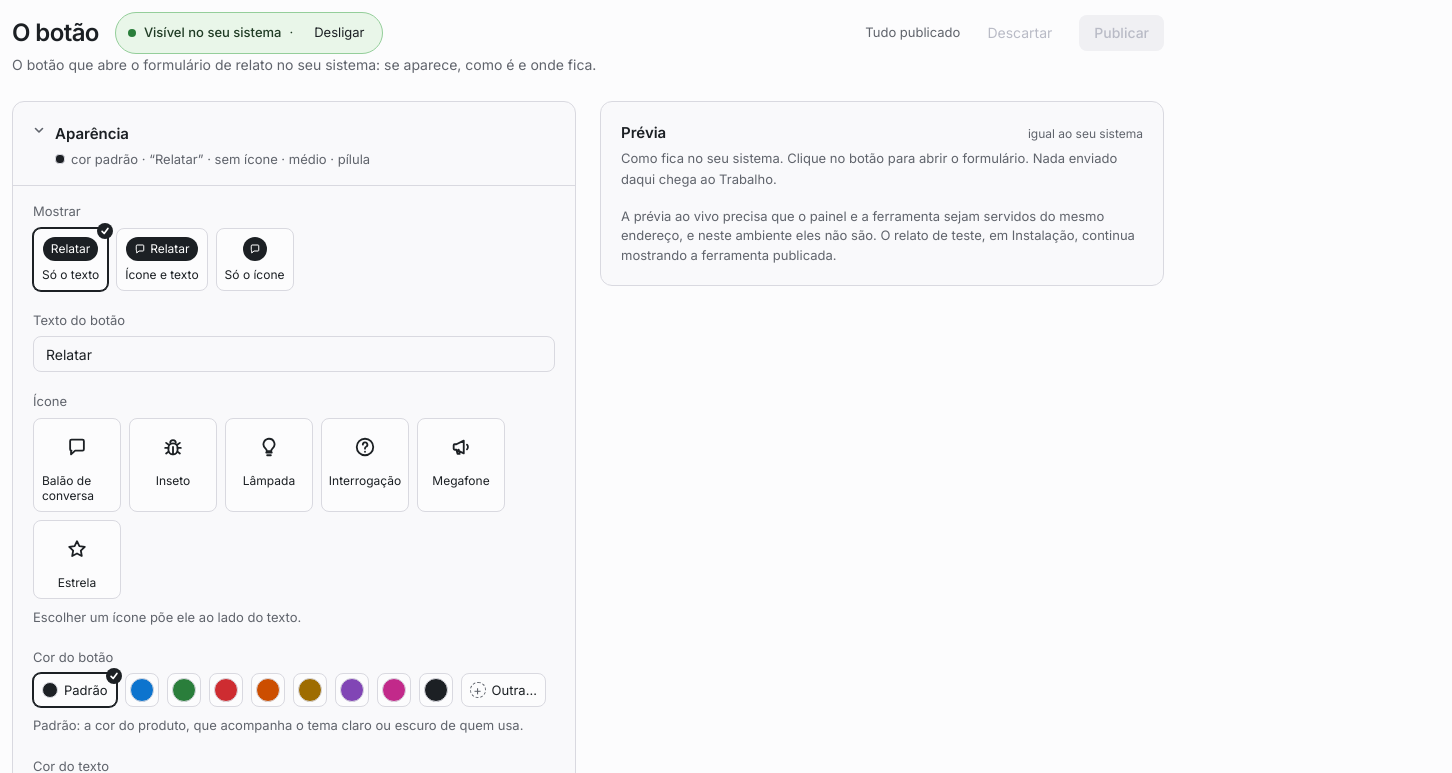
Scenario: WidgetSettingsScreen › a primeira mudanca liga o Publicar com a conta, e descartar desliga de novo
This screenshot has width=1452, height=773.
Replace the text in the field labelled "Texto do botão" with "Fale com a gente" at (294, 354), box [33, 336, 555, 372]
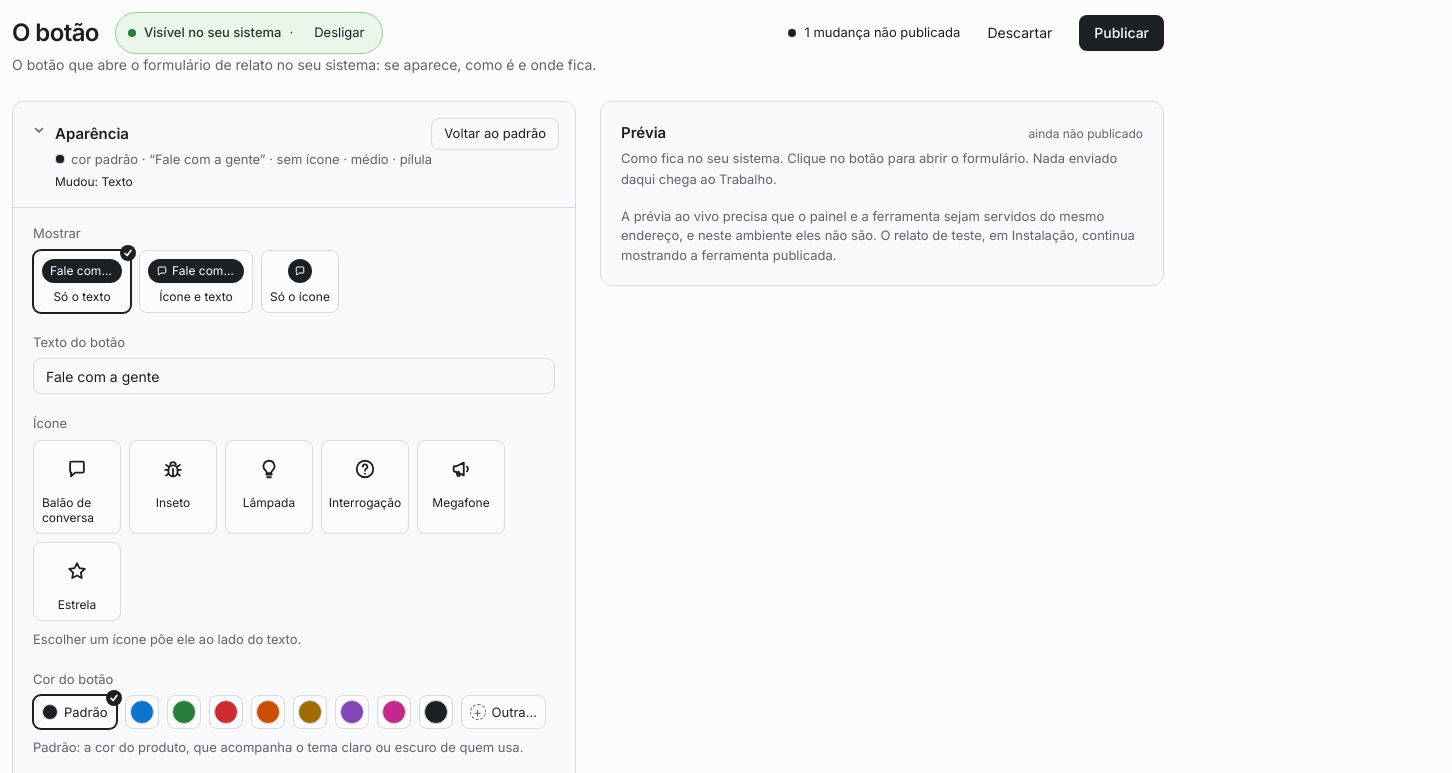
Expected: the text "1 mudança não publicada" is shown, [804, 23, 960, 43]
Click the button with aria-label "Desligar o botão no seu sistema" at (339, 33), box [301, 17, 378, 49]
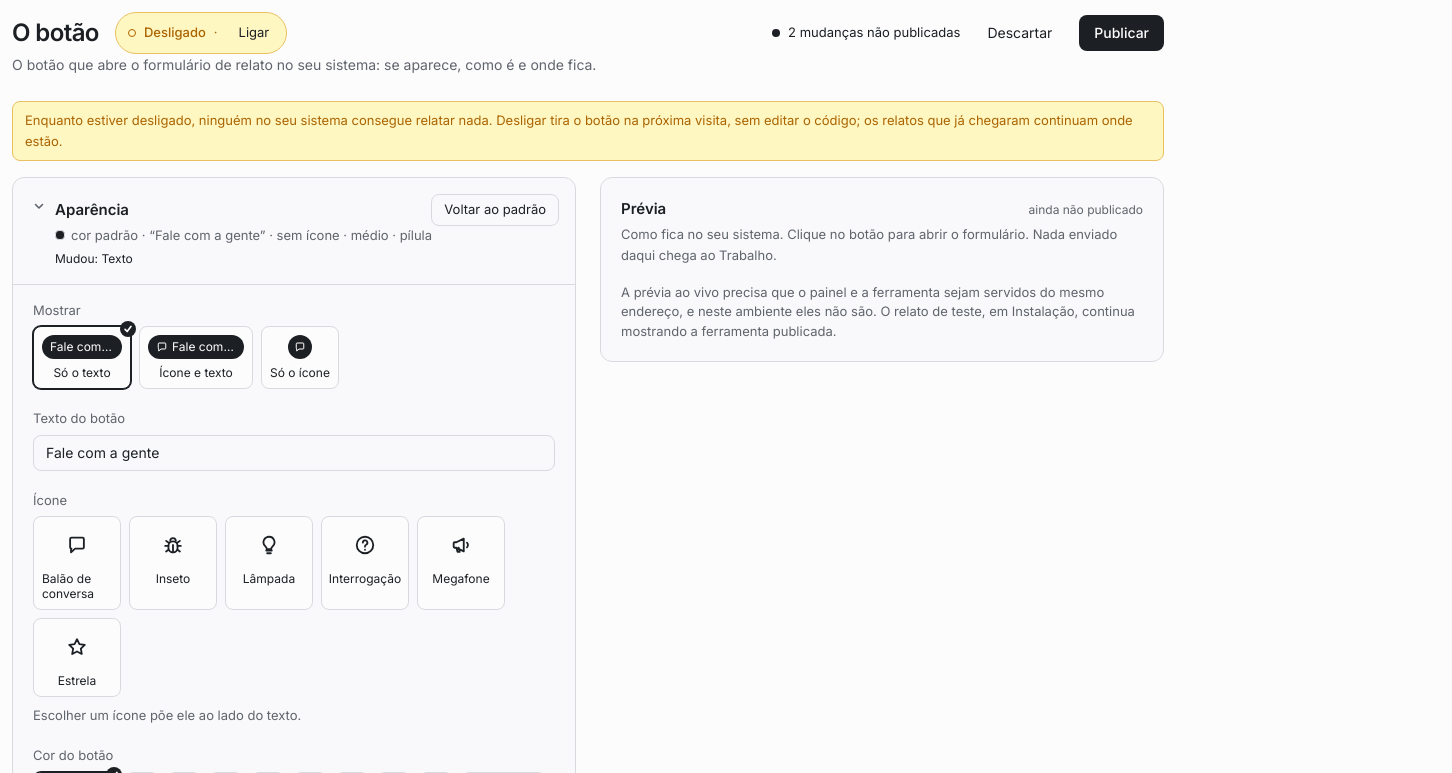
Expected: the text "2 mudanças não publicadas" is shown, [788, 23, 960, 43]
Click the button "Descartar" at (1020, 33), box [972, 15, 1067, 51]
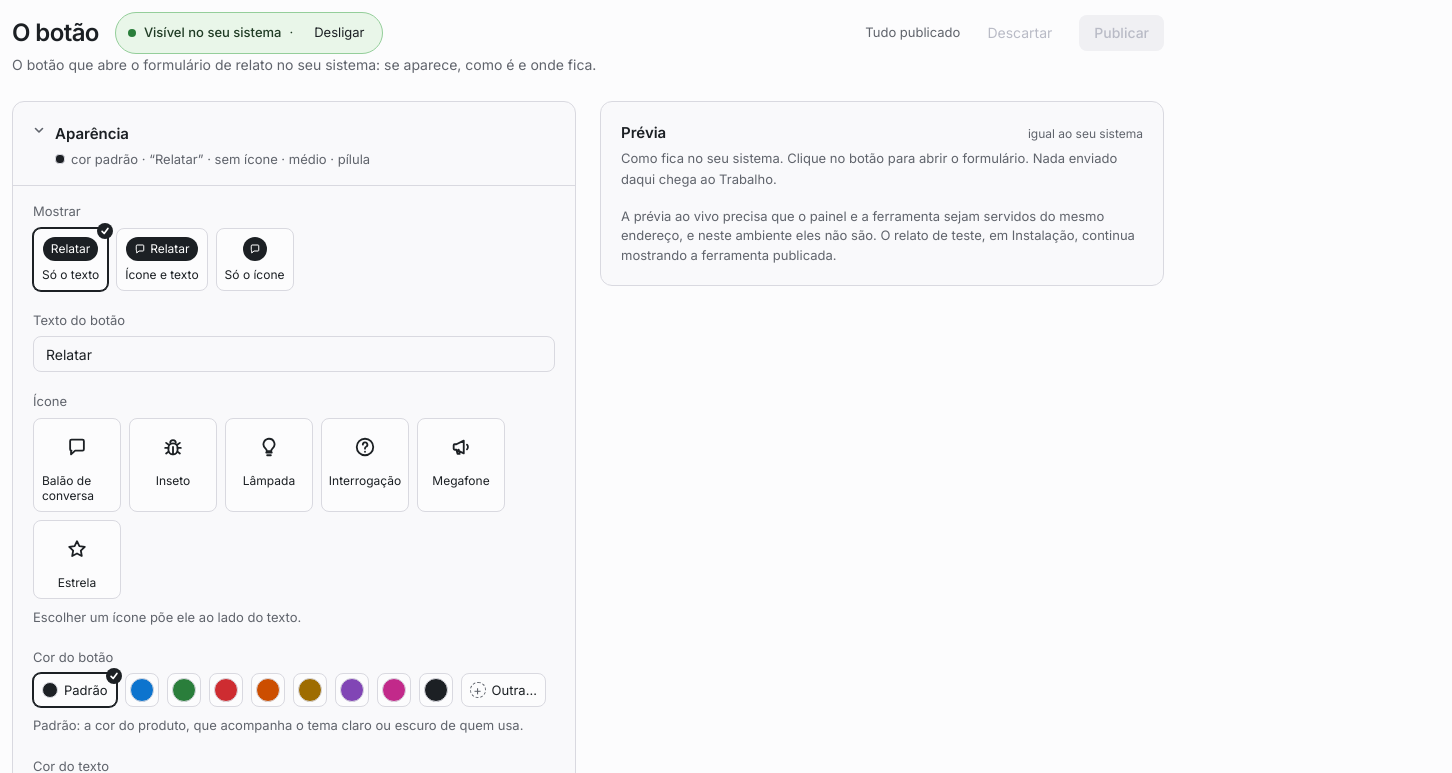
Expected: the text "Tudo publicado" is shown, [865, 23, 960, 43]
